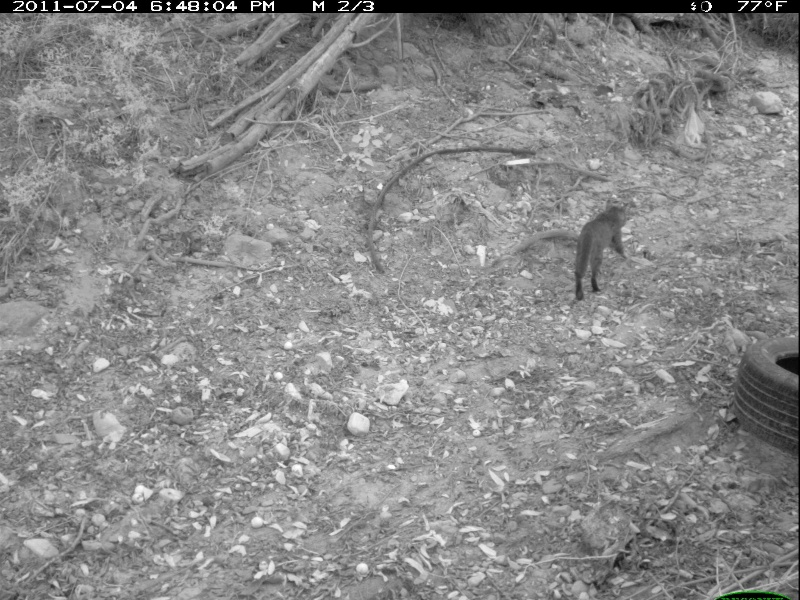cat: (570, 196, 632, 303)
